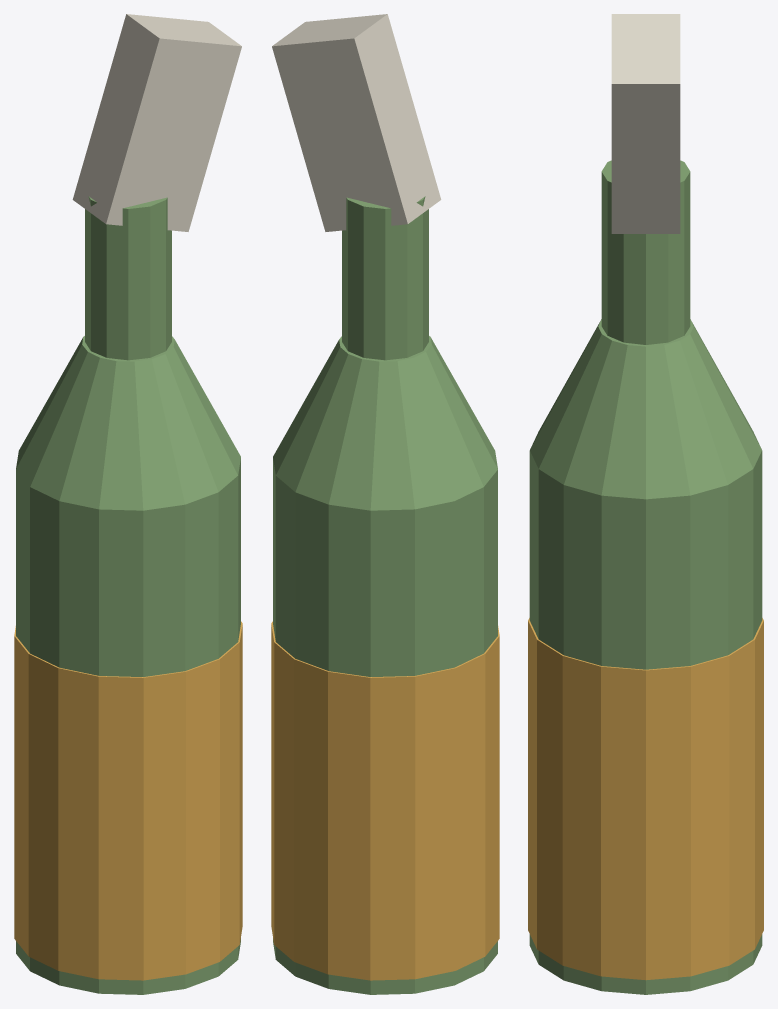
File: Loot_Molotov.fbx
3 renders of one model, left to right at view 1: azimuth 30°, elevation 25°; view 2: azimuth 150°, elevation 25°; view 3: azimuth 270°, elevation 25°, orthographic. The views are drawn at different scales.
Parts seen in each view (by area): view 1: Loot_Molotov; view 2: Loot_Molotov; view 3: Loot_Molotov.
Part boxes in pixels (x1,y1,x2,y2): Loot_Molotov: (14,14,242,994); Loot_Molotov: (271,14,499,994); Loot_Molotov: (528,14,763,994).
Size of the model in its own units: 0.069 by 0.3032 by 0.069.
